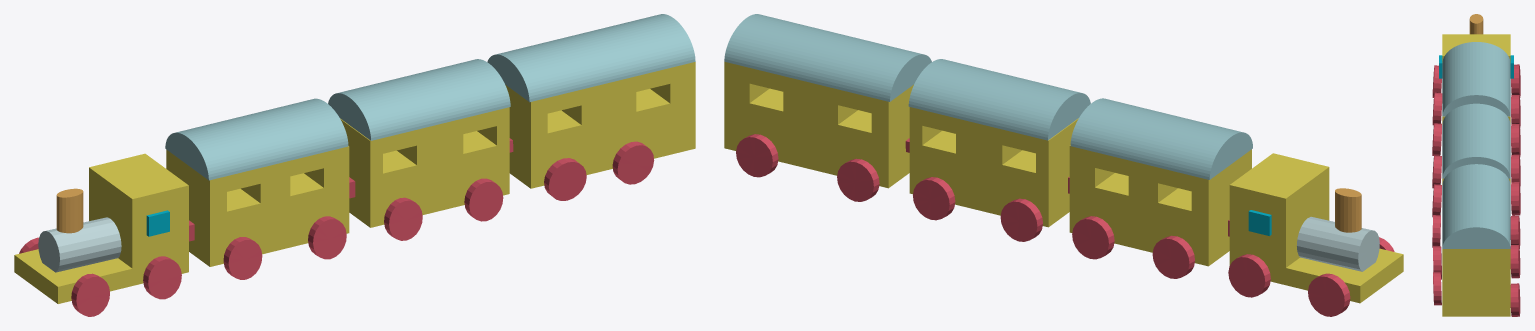
Rendered from Shiny Jarv-Bigery.glb.
3 renders of one model, left to right at view 1: azimuth 30°, elevation 25°; view 2: azimuth 150°, elevation 25°; view 3: azimuth 270°, elevation 25°, orthographic. The views are drawn at different scales.
Visible parts, largest first — view 1: Mesh_Mesh_head_geo.001_lambert2SG.001; view 2: Mesh_Mesh_head_geo.001_lambert2SG.001; view 3: Mesh_Mesh_head_geo.001_lambert2SG.001.
Boxes of the visible parts, left/top/right/bottom form: Mesh_Mesh_head_geo.001_lambert2SG.001: left=14, top=14, right=695, bottom=316; Mesh_Mesh_head_geo.001_lambert2SG.001: left=724, top=14, right=1403, bottom=316; Mesh_Mesh_head_geo.001_lambert2SG.001: left=1432, top=14, right=1520, bottom=316.
Size of the model in its own units: 169 by 33.07 by 26.
